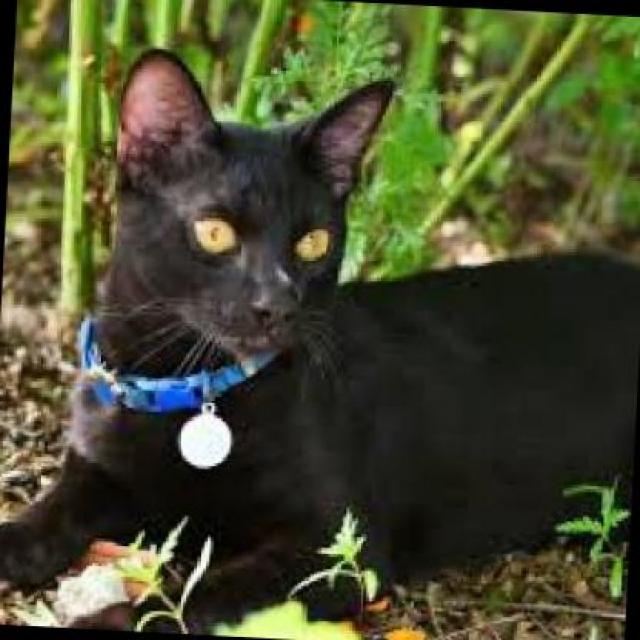animals: (6, 31, 639, 637)
